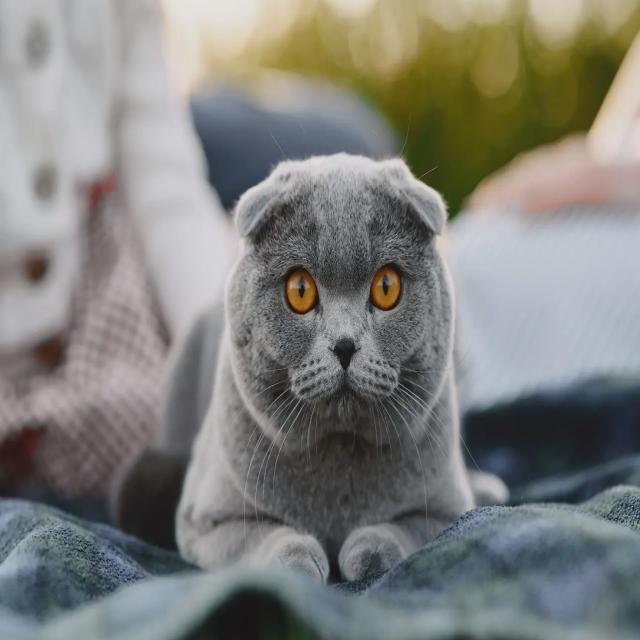Scottish Fold: (117, 146, 512, 600)
